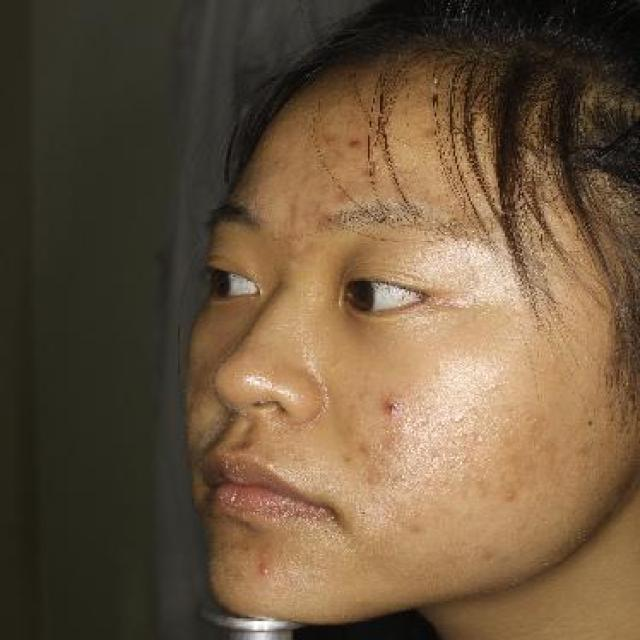pustules: (378, 397, 406, 418), (253, 563, 276, 580), (253, 546, 274, 563)
whiteheads: (484, 377, 505, 397), (454, 410, 471, 424), (424, 374, 438, 383)
